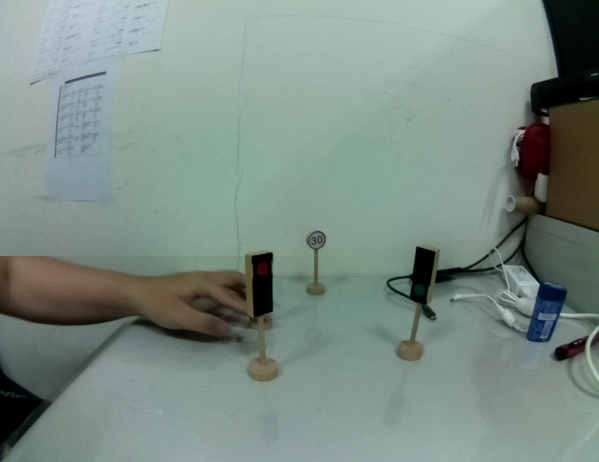Green: (403, 242, 441, 308)
Red: (241, 248, 280, 320)
Speed30: (303, 228, 329, 250)
